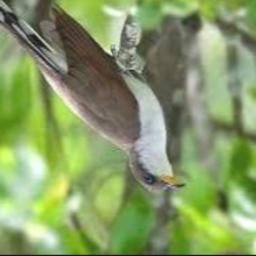Cuckoo: (0, 0, 185, 191)
